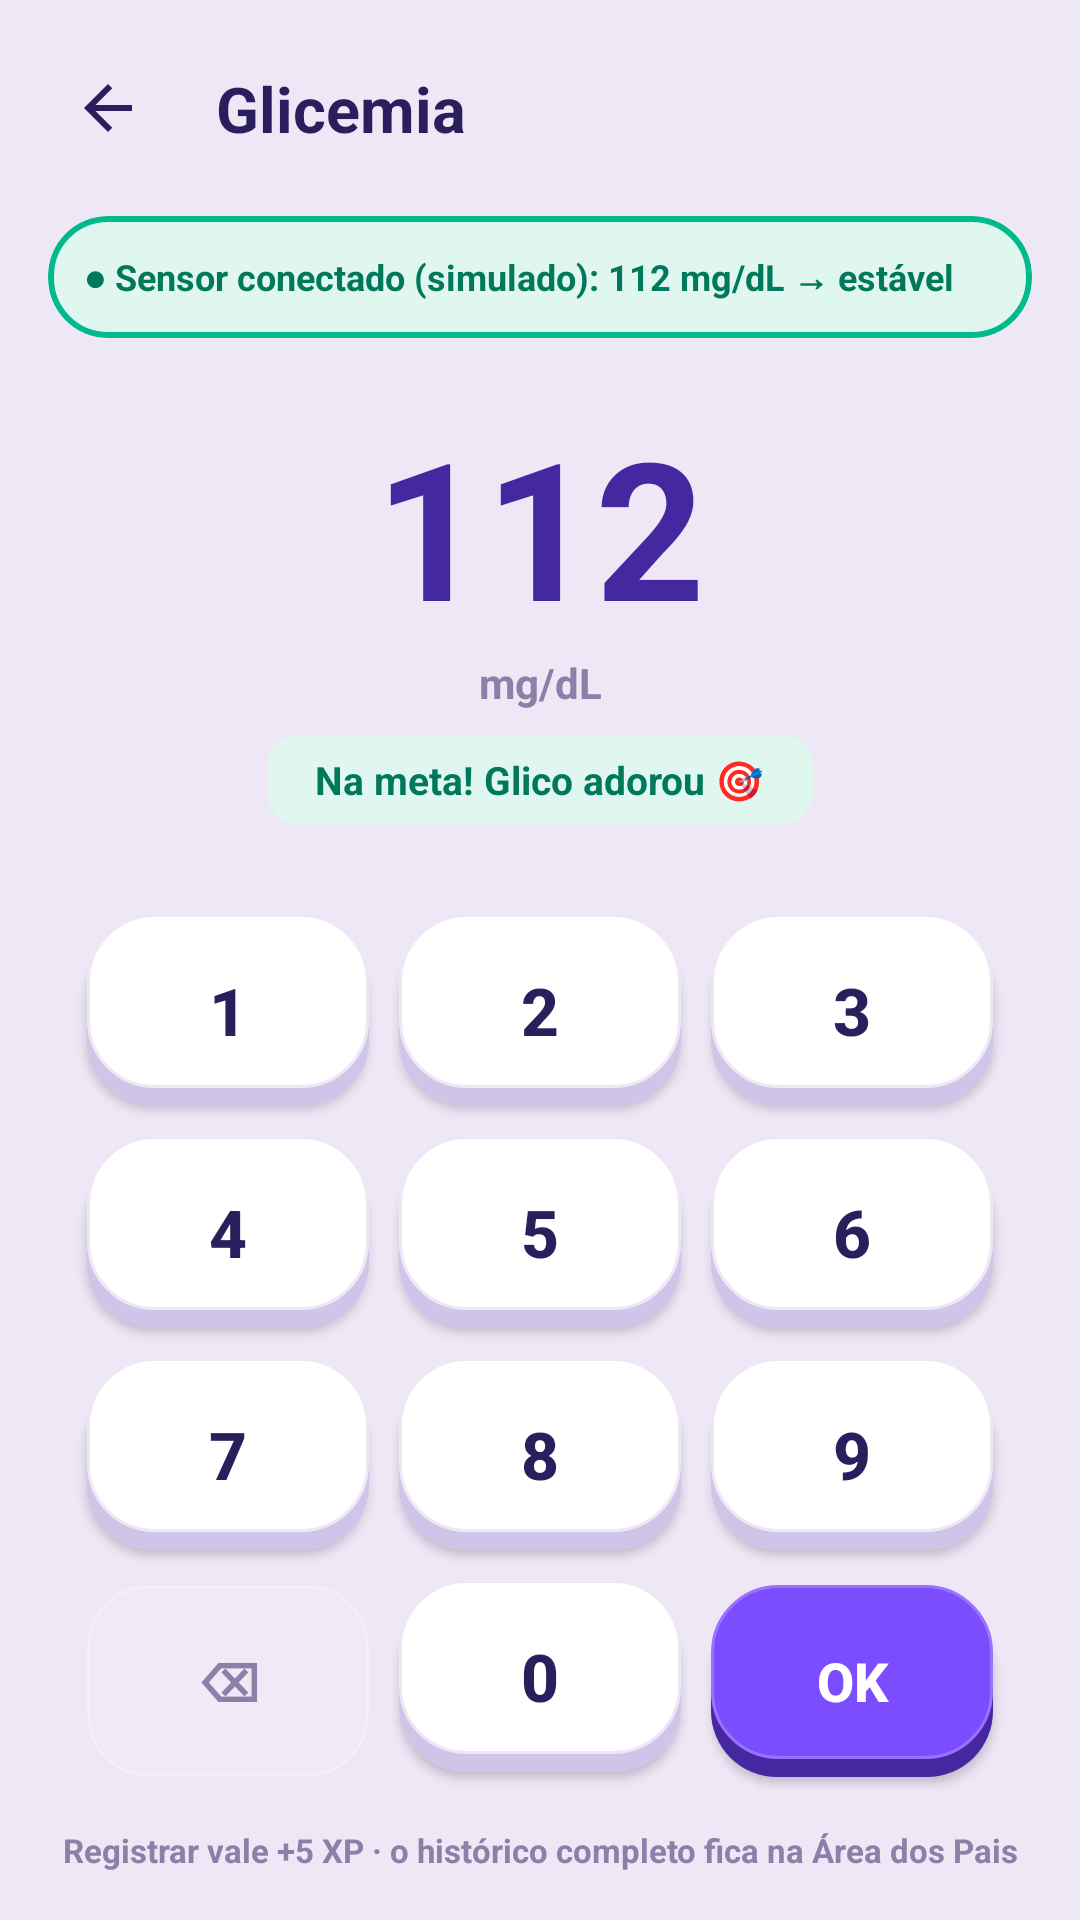

Named icons in this screenshot (1080px×1920px) and their centers, [x,y]:
Voltar: [108,108]
